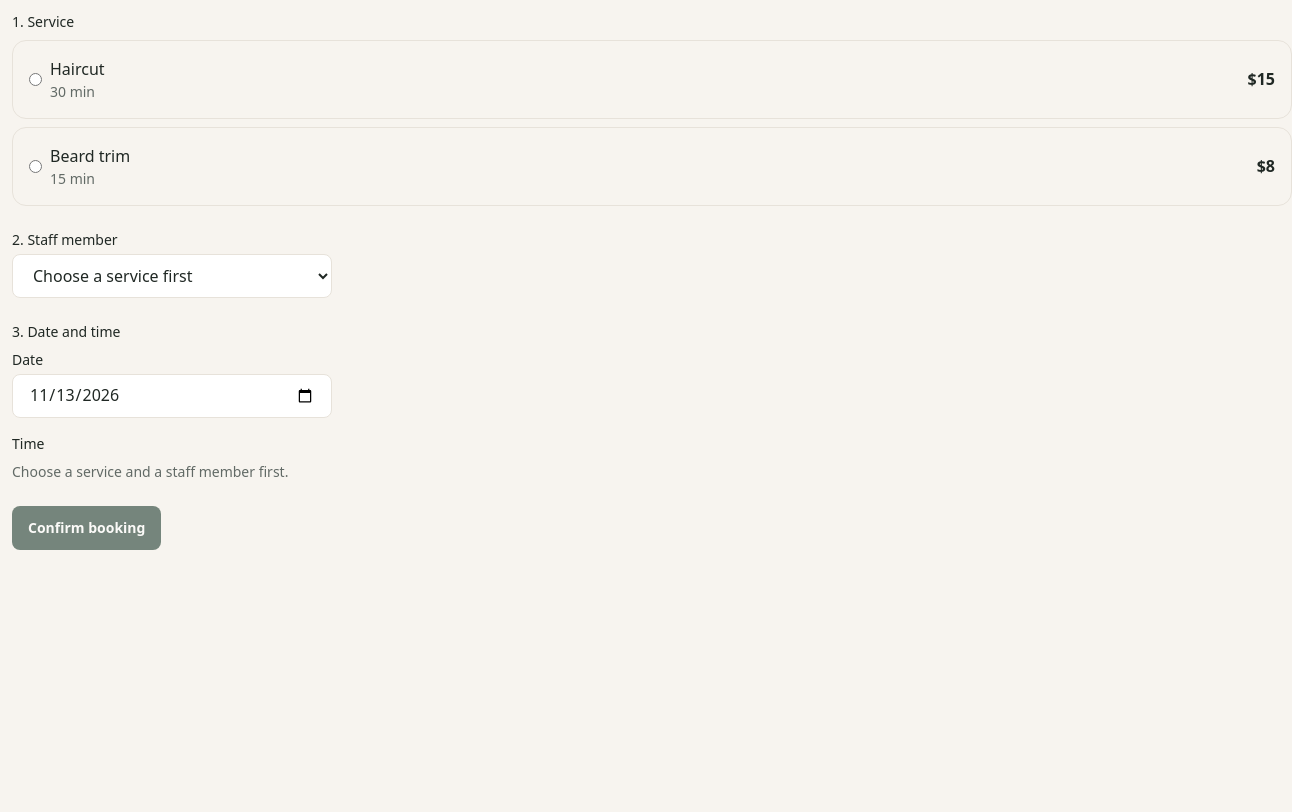
Test: BookingForm › only offers staff who perform the chosen service, and picks the only one automatically
The image size is (1292, 812).
Click the radio button labelled "Haircut 30 min $15".
click(36, 79)  # box [29,73,42,86]
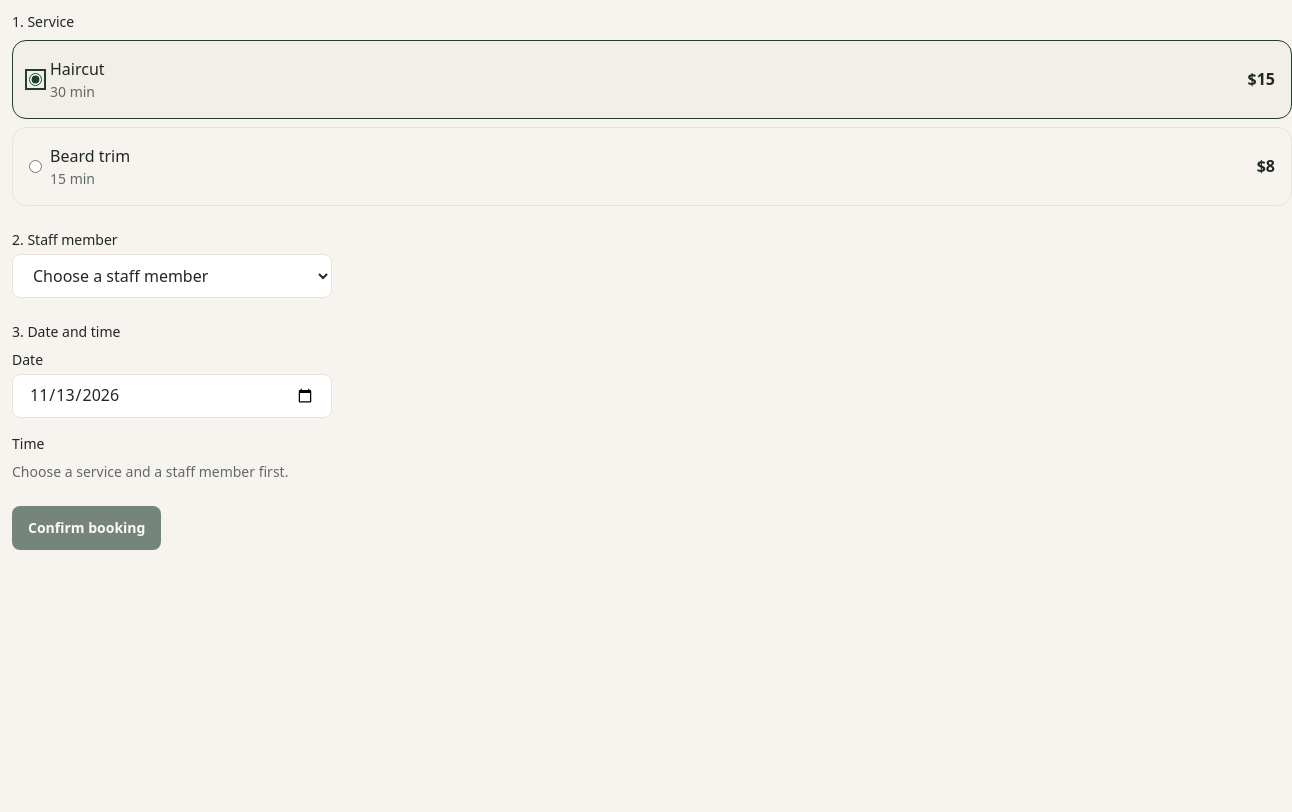
Expected: the dropdown labelled "2. Staff member" shows "Choose a staff member", [12,254,332,298]
Click the radio button labelled "Beard trim 15 min $8".
click(36, 166)  # box [29,160,42,173]
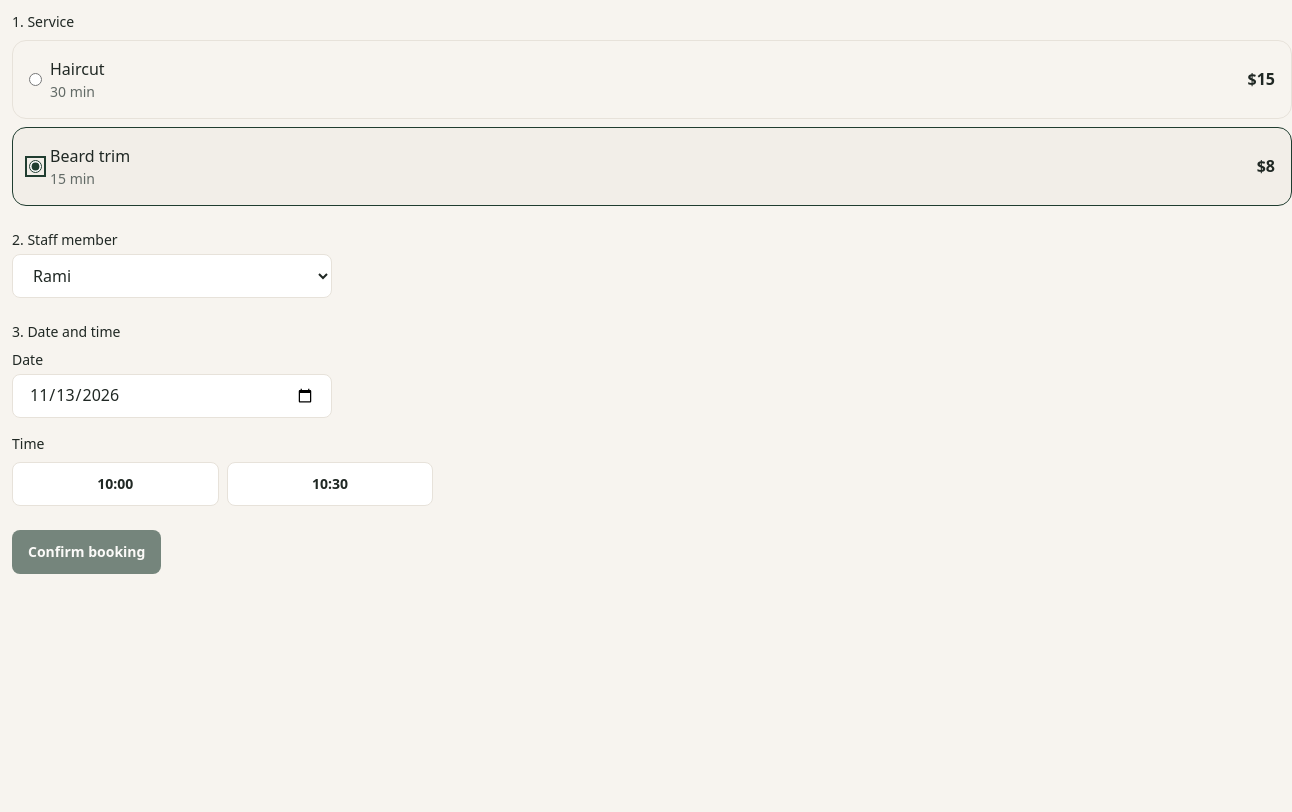
Expected: the dropdown labelled "2. Staff member" shows "Rami", [12,254,332,298]
